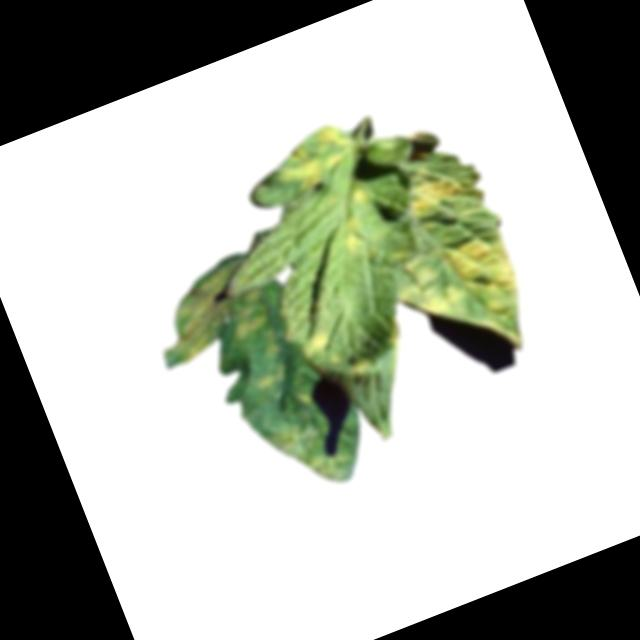Leaf_Mold: (385, 221, 543, 374), (152, 250, 276, 368), (265, 118, 362, 200), (264, 410, 351, 497), (402, 170, 469, 224), (335, 211, 374, 261), (298, 326, 342, 359), (342, 346, 380, 383), (343, 176, 379, 215), (252, 362, 291, 393), (296, 387, 317, 408)
